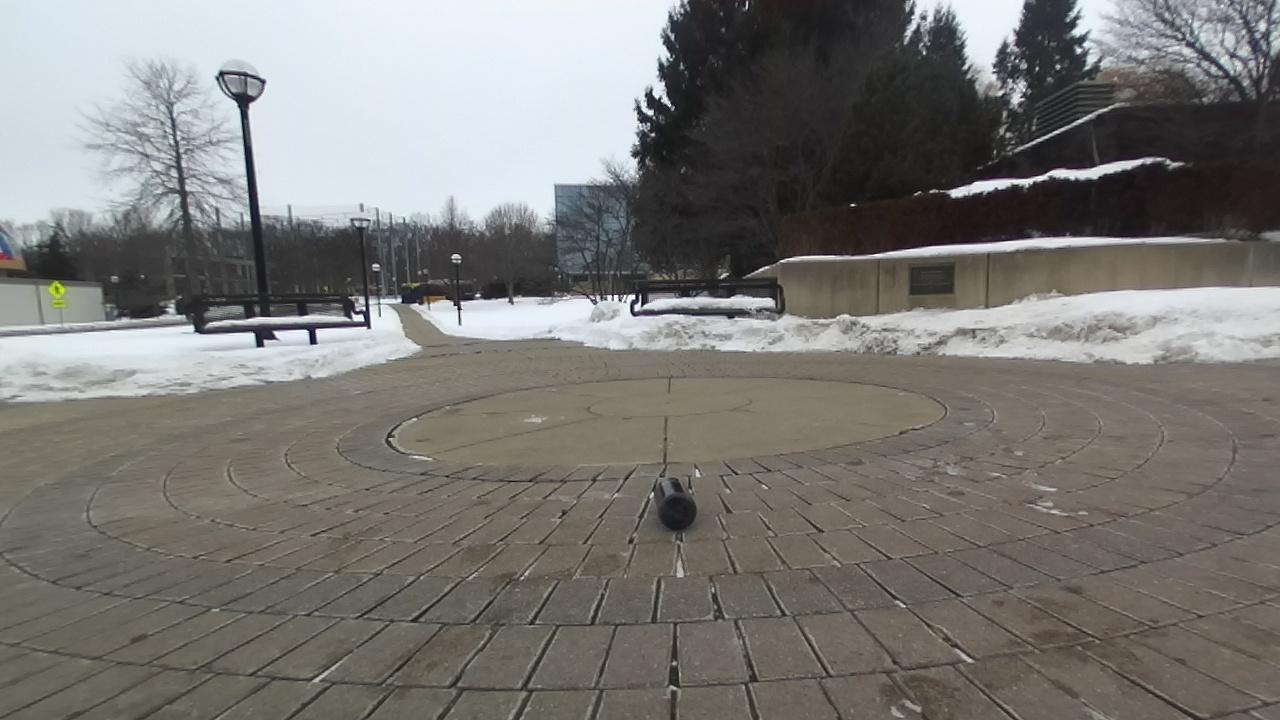bottle: (655, 478, 696, 530)
